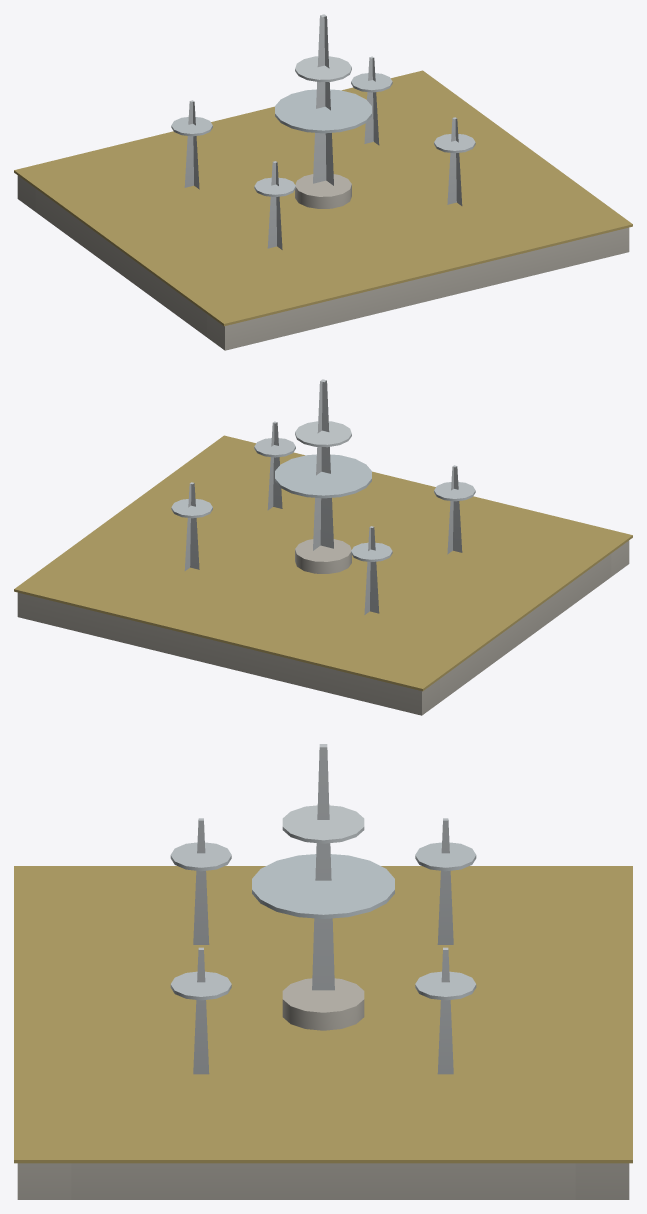
Rendered from gate_pool.glb.
The picture shows the model from 3 angles, top to bottom: view 1: azimuth 30°, elevation 25°; view 2: azimuth 150°, elevation 25°; view 3: azimuth 270°, elevation 25°; orthographic projection. The views are drawn at different scales.
Visible parts, largest first — view 1: gate_pool; view 2: gate_pool; view 3: gate_pool.
Boxes of the visible parts, x1,y1,x2,y2 form: gate_pool: [14, 14, 632, 350]; gate_pool: [14, 379, 632, 715]; gate_pool: [14, 744, 632, 1199].
Bounding box in the file's own units: 9.1 × 4.46 × 8.1.
